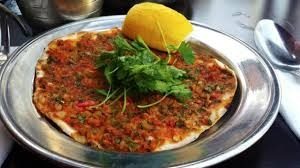lahmacun: (33, 5, 236, 151)
